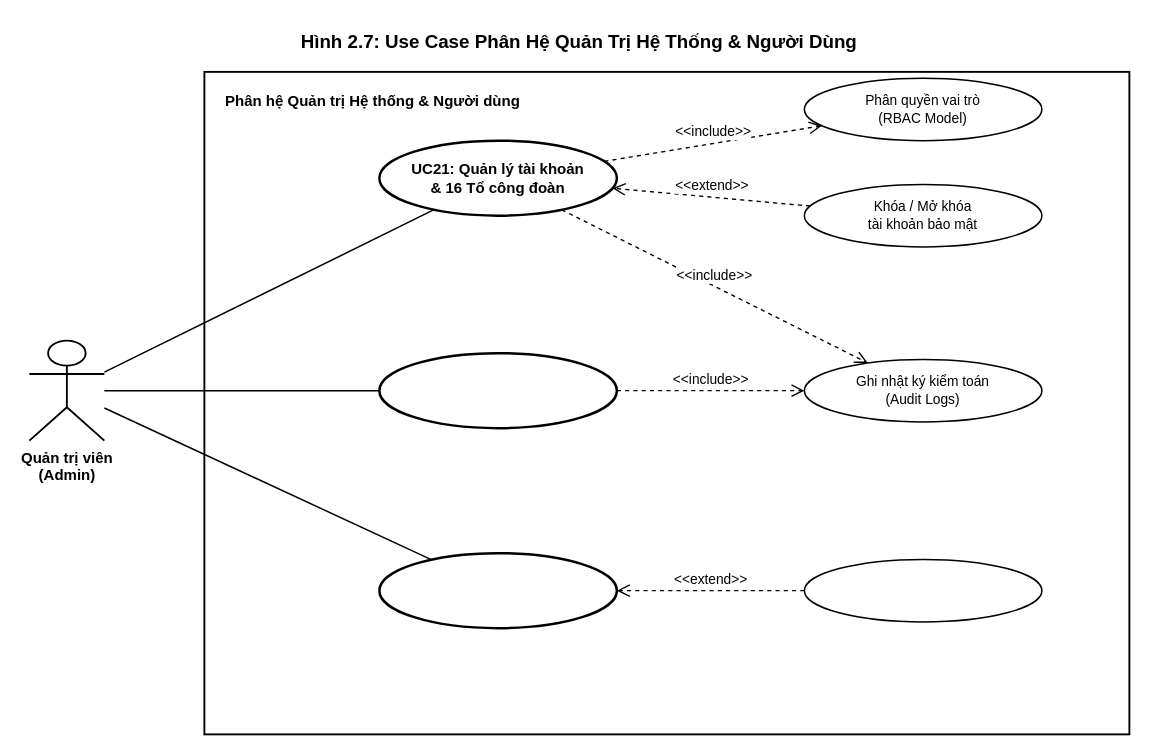
Some shapes in this 1153 by 756 pixel diagram are drawn without their labels. The centre of each missing label's shape, as x and y in pixels:
"Sao lưu & Phục hồi CSDL toàn phần" belongs at [498,590].
"Tải tệp Backup về lưu trữ an toàn" belongs at [922,590].
"UC26: Cấu hình Khóa API (Gemini / Facebook)" belongs at [498,390].
